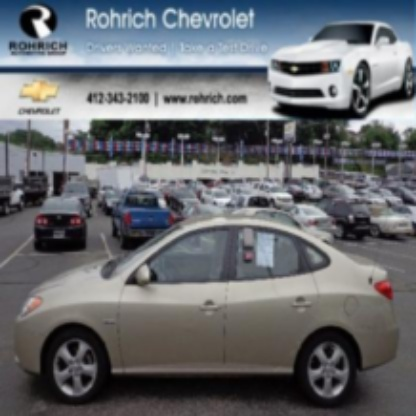Vehicle: (13, 218, 401, 404)
